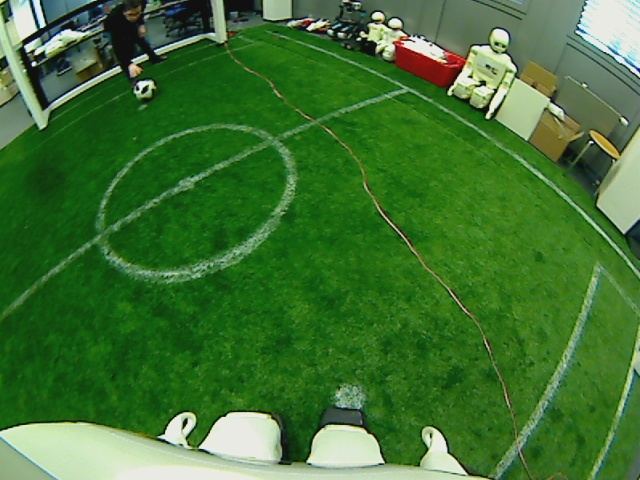ball: (133, 78, 158, 103)
